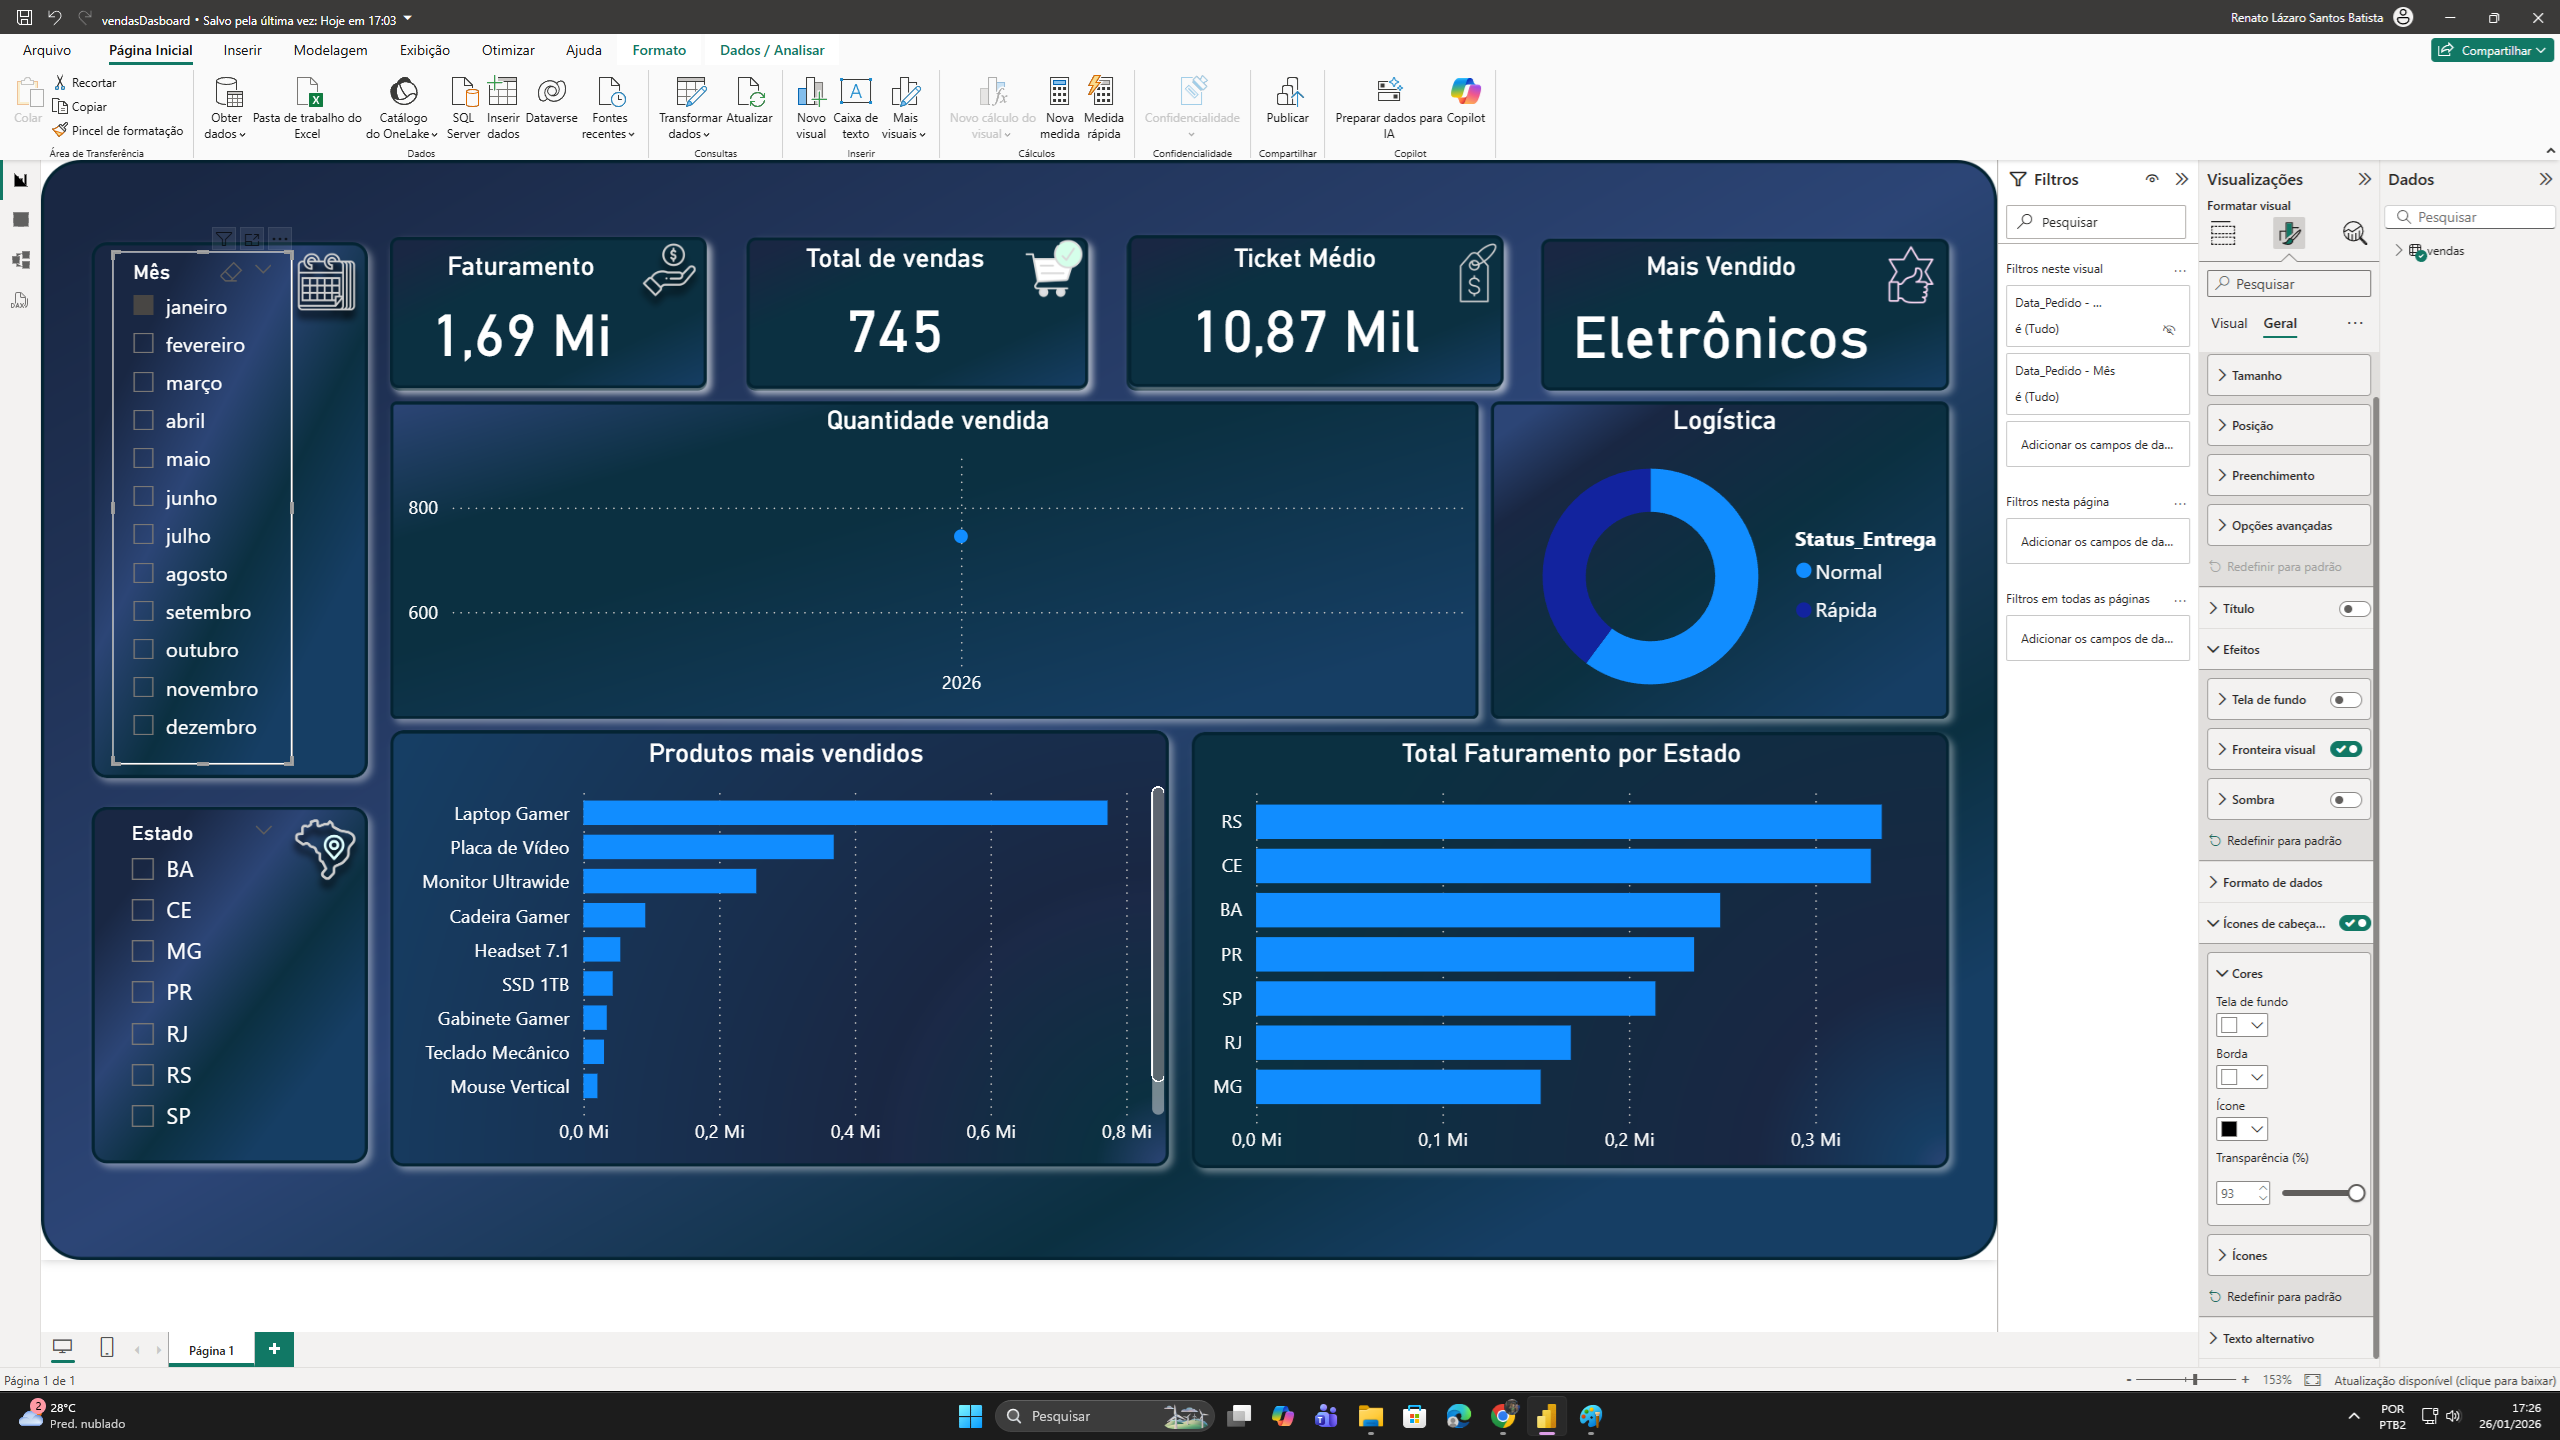

The page's visual inventory and layout, read from the dashboard file:
{"tool":"powerbi","page":{"name":"Página 1","canvas":[1280,720],"ordinal":0},"visuals":[{"type":"card","title":"Faturamento","fields":{"Values":["Sum(dadc64f5-7e9e-4761-be42-3d51af9.Faturamento)"]},"box":[234.9,59.6,158.4,83.1],"z":0},{"type":"card","title":"Total de vendas","fields":{"Values":["Sum(dadc64f5-7e9e-4761-be42-3d51af9.Quantidade)"]},"box":[472.5,54.3,172.8,88.3],"z":1000},{"type":"card","title":"Ticket Médio","fields":{"Values":["vendas.Ticket Médio"]},"box":[728.3,54.3,197.6,88.3],"z":2000},{"type":"card","title":"Mais Vendido","fields":{"Values":["vendas.Top Categoria Texto"]},"box":[996,59.6,206.8,85.7],"z":3000},{"type":"lineChart","title":"Quantidade vendida","fields":{"Category":["vendas.Mês.Variation.Hierarquia de datas.Ano","vendas.Mês.Variation.Hierarquia de datas.Trimestre","vendas.Mês.Variation.Hierarquia de datas.Mês","vendas.Mês.Variation.Hierarquia de datas.Dia"],"Y":["Sum(vendas.Quantidade)"]},"box":[234.9,160.3,704.1,199.6],"z":4000},{"type":"barChart","title":"Produtos mais vendidos","fields":{"Category":["vendas.Nome_Produto"],"Y":["Sum(vendas.Faturamento)"]},"box":[234.9,378.2,505.2,275.5],"z":5000},{"type":"barChart","fields":{"Category":["vendas.Estado"],"Y":["vendas.Total Faturamento"]},"box":[759.1,378.2,484.9,280.7],"z":6000},{"type":"slicer","fields":{"Values":["vendas.Data_Pedido.Variation.Hierarquia de datas.Mês"]},"box":[46.5,59.6,118.4,336.4],"z":7000},{"type":"donutChart","title":"Logística","fields":{"Category":["vendas.Status_Entrega"],"Y":["Sum(vendas.ID_Pedido)"]},"box":[953.5,160.3,296.4,205.5],"z":8000},{"type":"slicer","fields":{"Values":["vendas.Estado"]},"box":[46.5,428,117.8,225.8],"z":9000}]}

Visuals, with their boxes on the page's 1280x720 design canvas (x1, y1, x2, y2). These are canvas units, not pixel positions in the 2560x1440 screenshot, which may show the page scaled, cropped or inside an application window:
"Faturamento" card: bbox=[235, 60, 393, 143]
"Total de vendas" card: bbox=[472, 54, 645, 143]
"Ticket Médio" card: bbox=[728, 54, 926, 143]
"Mais Vendido" card: bbox=[996, 60, 1203, 145]
"Quantidade vendida" lineChart: bbox=[235, 160, 939, 360]
"Produtos mais vendidos" barChart: bbox=[235, 378, 740, 654]
barChart - vendas.Estado x vendas.Total Faturamento: bbox=[759, 378, 1244, 659]
slicer - vendas.Data_Pedido.Variation.Hierarquia de datas.Mês: bbox=[46, 60, 165, 396]
"Logística" donutChart: bbox=[954, 160, 1250, 366]
slicer - vendas.Estado: bbox=[46, 428, 164, 654]
